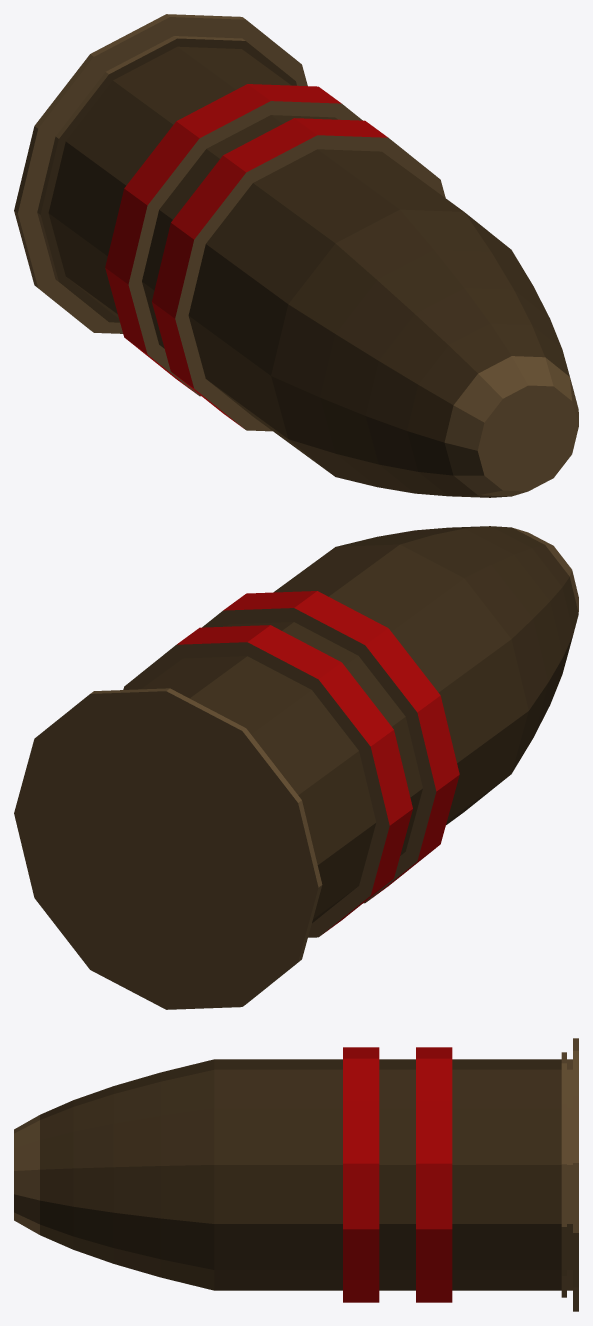
Rendered from Obus.fbx.
3 views of the same model, one above another, from view 1: azimuth 30°, elevation 25°; view 2: azimuth 150°, elevation 25°; view 3: azimuth 270°, elevation 25° (orthographic). The views are drawn at different scales.
Parts seen in each view (by area): view 1: Obus; view 2: Obus; view 3: Obus.
Boxes of the visible parts, bbox=[...] form: Obus: bbox=[14, 14, 578, 497]; Obus: bbox=[14, 526, 578, 1009]; Obus: bbox=[14, 1038, 578, 1311].
Bounding box in the file's own units: 1.41 × 1.41 × 2.91.
